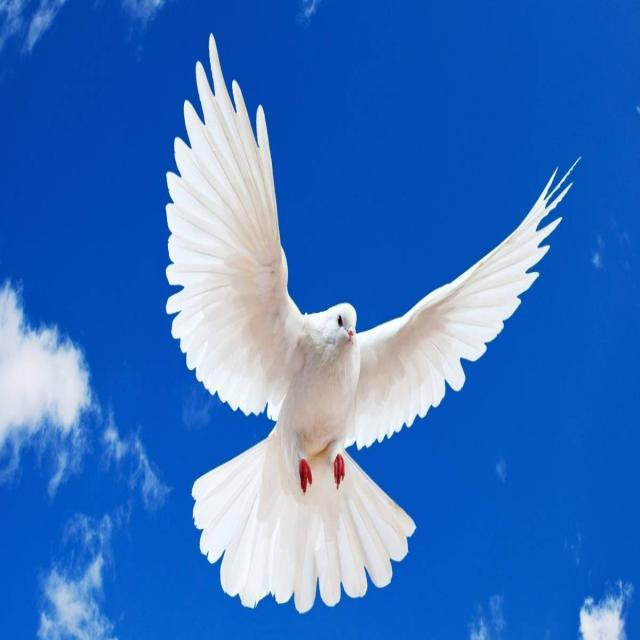bird: (143, 20, 589, 607)
